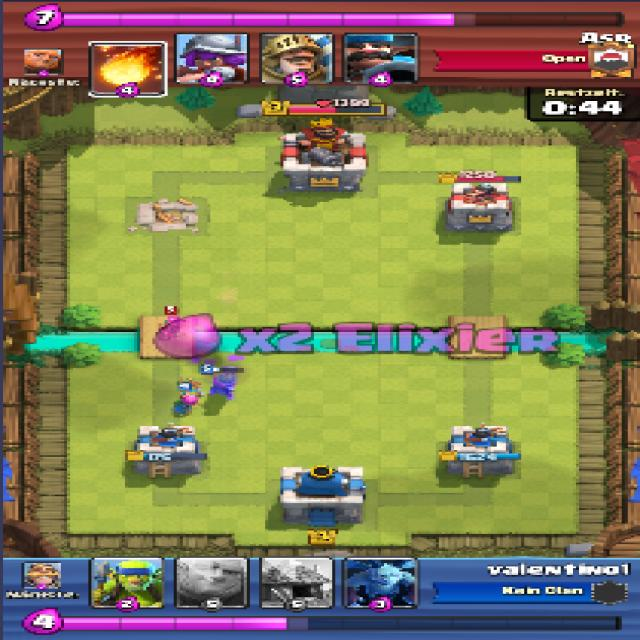Enemy-Archer: (157, 316, 183, 339)
Player-Archer: (173, 392, 197, 415)
Player-Musketeer: (200, 367, 234, 398)
